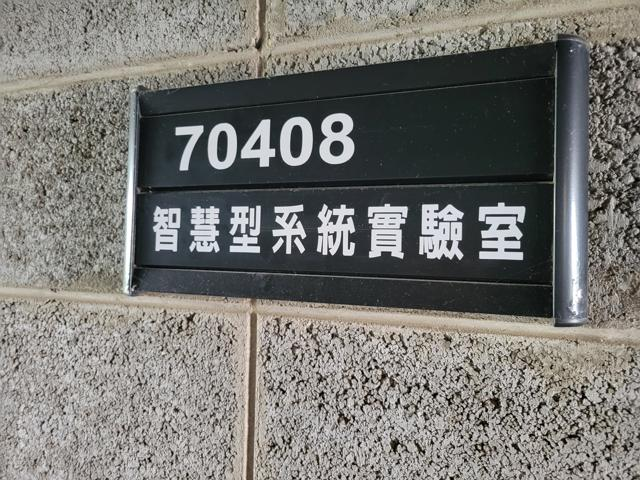doorplate: (110, 27, 604, 337)
